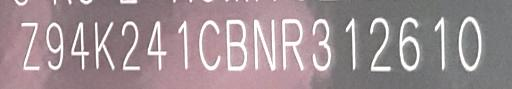letter: (455, 11, 485, 72), (196, 15, 222, 72), (252, 17, 278, 74), (368, 13, 392, 74), (396, 14, 420, 73), (224, 15, 248, 74), (282, 17, 306, 74), (428, 13, 450, 74), (93, 19, 117, 74), (119, 19, 143, 72), (18, 20, 42, 73), (310, 16, 332, 73), (146, 17, 168, 74), (173, 18, 193, 73), (340, 16, 358, 73), (70, 20, 90, 71), (44, 20, 64, 71)
